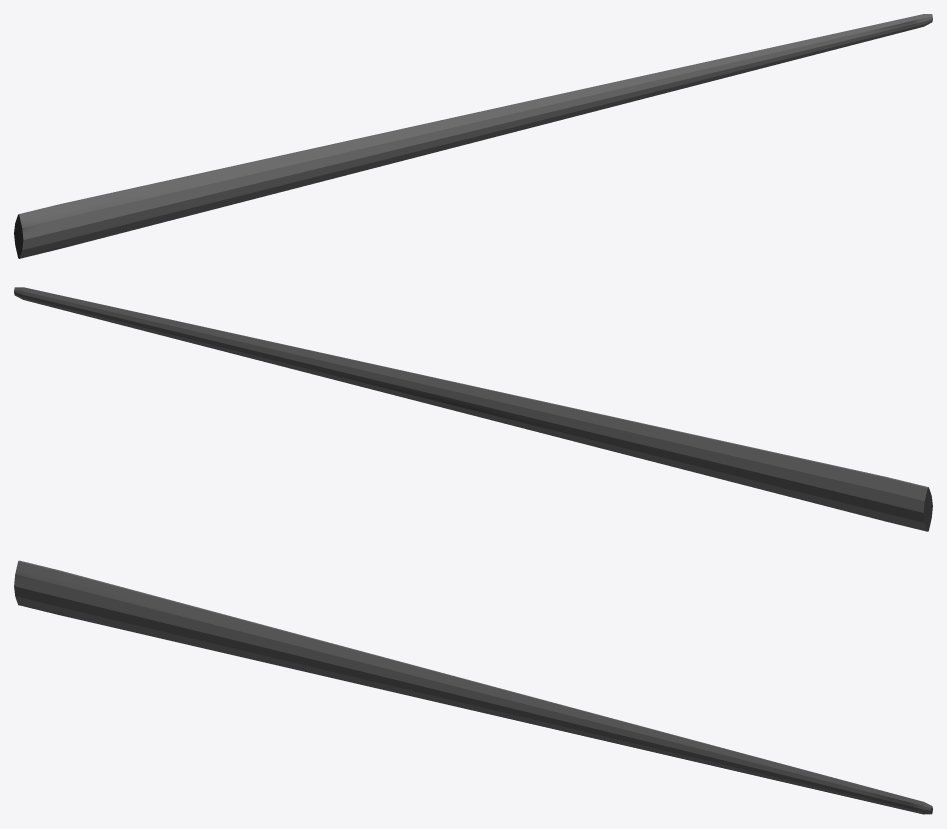
Rendered from StoneSword_Blade.fbx.
3 renders of one model, top to bottom at view 1: azimuth 30°, elevation 25°; view 2: azimuth 150°, elevation 25°; view 3: azimuth 330°, elevation 25°, orthographic.
Visible parts, largest first — view 1: Blade; view 2: Blade; view 3: Blade.
Part boxes in pixels (x1,y1,x2,y2): Blade: [14, 14, 932, 258]; Blade: [14, 287, 932, 531]; Blade: [14, 560, 932, 814].
Bounding box in the file's own units: 6.8 × 0.3118 × 0.1213.
1 material, 1 textured.
